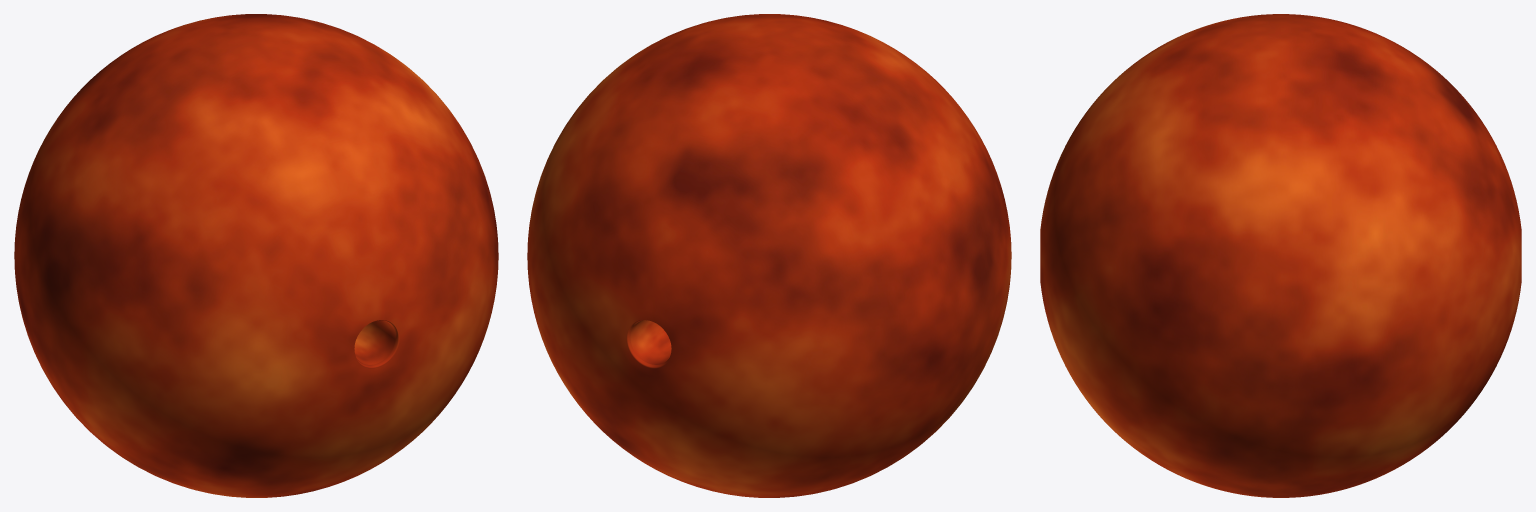
The model's file is carnelian-10mm.glb.
3 views of the same model, side by side, from view 1: azimuth 30°, elevation 25°; view 2: azimuth 150°, elevation 25°; view 3: azimuth 270°, elevation 25° (orthographic).
Visible parts, largest first — view 1: carnelian.001; view 2: carnelian.001; view 3: carnelian.001.
Boxes of the visible parts, x1,y1,x2,y2 form: carnelian.001: [14, 14, 498, 497]; carnelian.001: [527, 14, 1011, 497]; carnelian.001: [1040, 14, 1521, 497].
Size of the model in its own units: 0.01 by 0.01 by 0.00994.
Materials: 2 (1 with a texture image).
